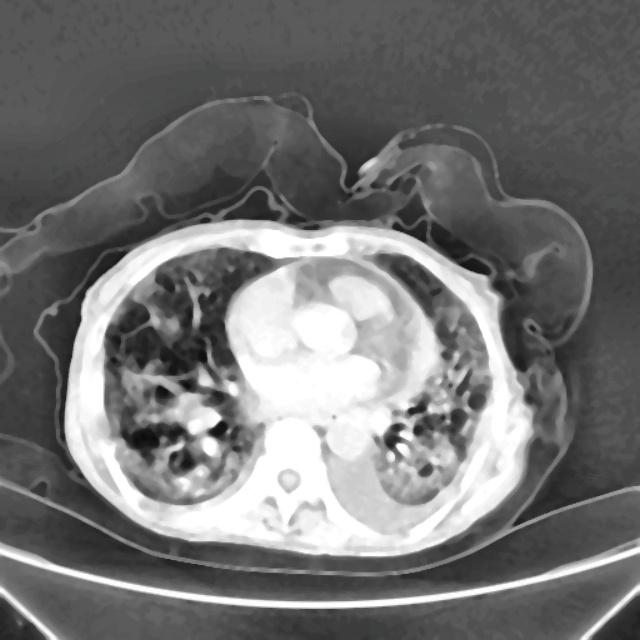covid: (73, 216, 544, 557)
